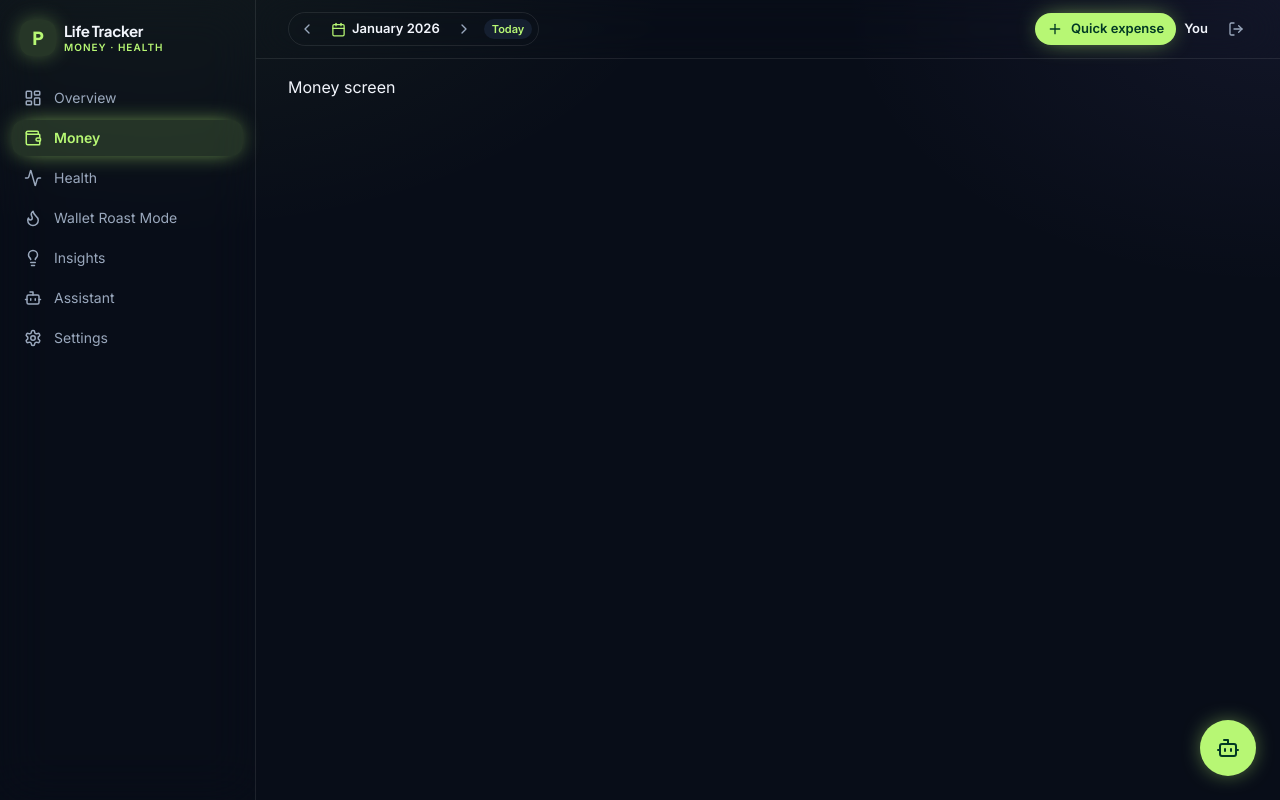
Test case: AppShell navigation › navigates to /assistant from the sidebar link
This screenshot has width=1280, height=800.
Click the link "Assistant". click: point(69, 298)
box: [24,289,115,307]
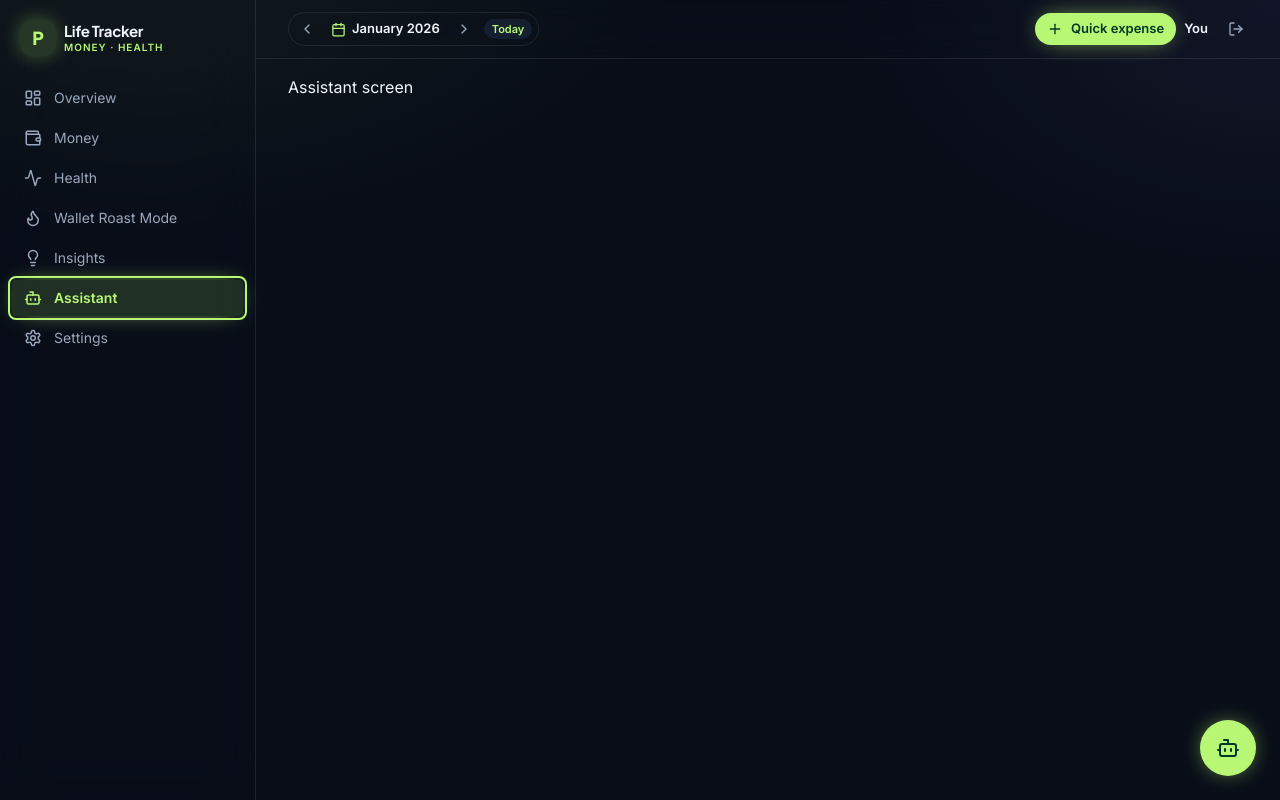
Now the text "Assistant screen" is shown, box [288,77,413,97]
